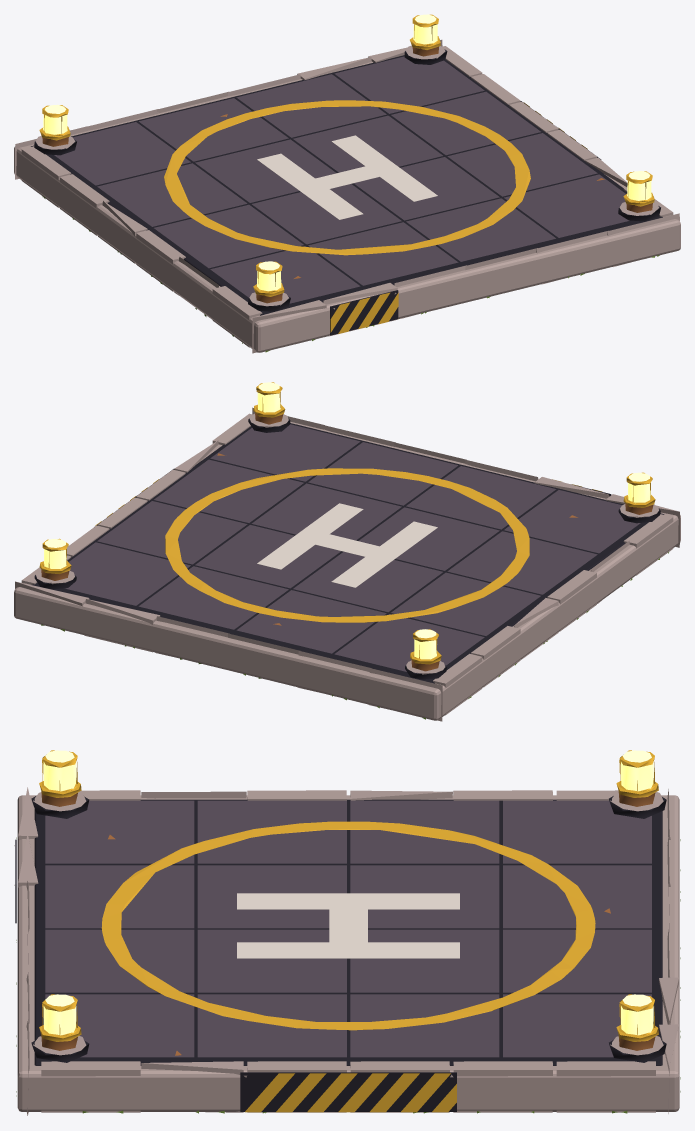
Rendered from bld.helipad.lod2.glb.
3 renders of one model, top to bottom at view 1: azimuth 30°, elevation 25°; view 2: azimuth 150°, elevation 25°; view 3: azimuth 270°, elevation 25°, orthographic. The views are drawn at different scales.
Parts seen in each view (by area): view 1: body, lamp_2, lamp_1, lamp_3, lamp_0; view 2: body, lamp_1, lamp_2, lamp_3, lamp_0; view 3: body, lamp_0, lamp_1, lamp_2, lamp_3.
Boxes of the visible parts, box(x1,y1,x2,y2) form: body: box(14, 39, 680, 353); lamp_2: box(404, 14, 447, 64); lamp_1: box(618, 171, 660, 221); lamp_3: box(34, 104, 76, 155); lamp_0: box(248, 261, 290, 311); body: box(14, 407, 680, 721); lamp_1: box(248, 382, 290, 432); lamp_2: box(34, 538, 76, 589); lamp_3: box(405, 629, 446, 679); lamp_0: box(618, 472, 660, 523); body: box(14, 787, 680, 1115); lamp_0: box(31, 750, 89, 818); lamp_1: box(31, 994, 89, 1062); lamp_2: box(609, 994, 666, 1062); lamp_3: box(609, 750, 666, 818).
Bounding box in the file's own units: 10.07 × 1.63 × 10.05.
